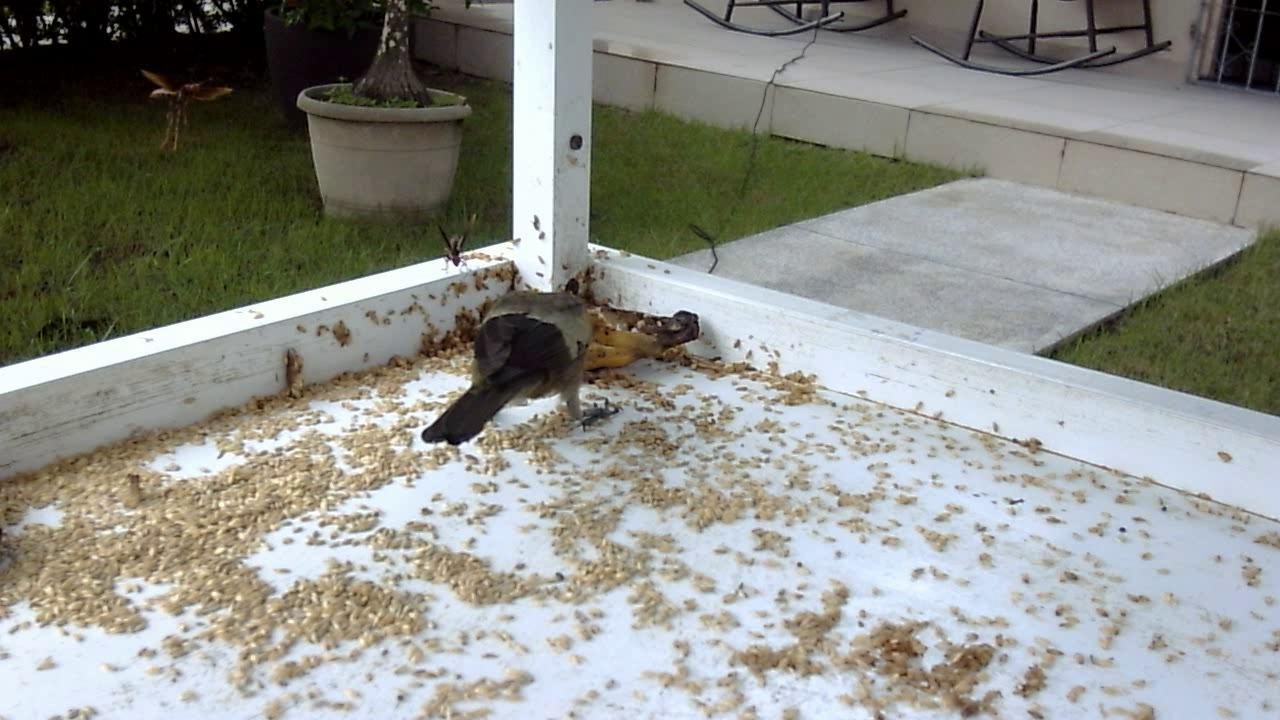sanhaco_do_coqueiro: (416, 278, 680, 455)
